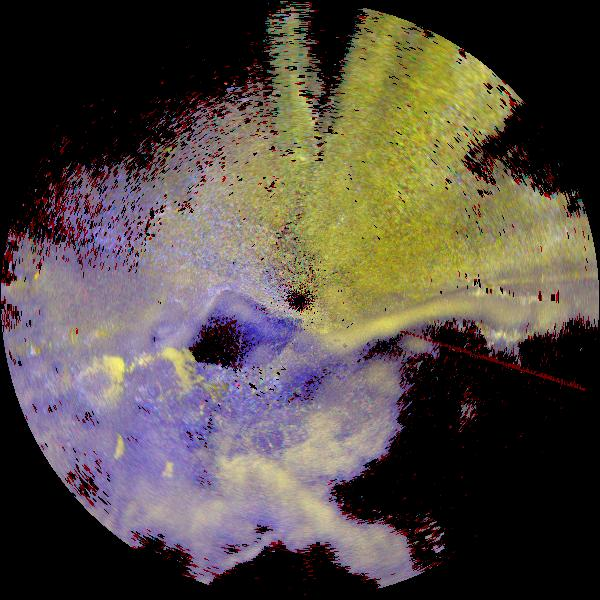roost: (136, 345, 193, 402), (75, 356, 126, 407), (136, 435, 184, 483), (95, 428, 128, 461)
